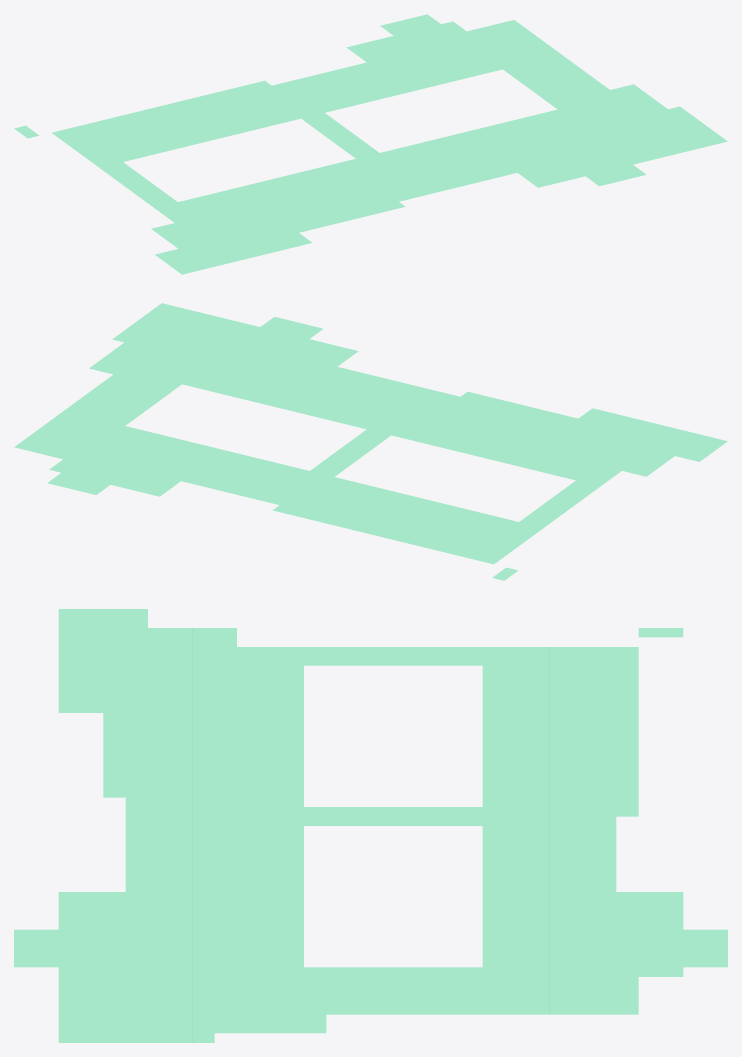
The model's file is navmesh.glb.
3 renders of one model, top to bottom at view 1: azimuth 30°, elevation 25°; view 2: azimuth 150°, elevation 25°; view 3: azimuth 270°, elevation 25°, orthographic. The views are drawn at different scales.
Visible parts, largest first — view 1: NAVMESH; view 2: NAVMESH; view 3: NAVMESH.
Part boxes in pixels (x1,y1,x2,y2): NAVMESH: (14, 14, 727, 274); NAVMESH: (14, 303, 727, 580); NAVMESH: (14, 609, 727, 1042).
Size of the model in its own units: 11.5 by 0 by 8.
